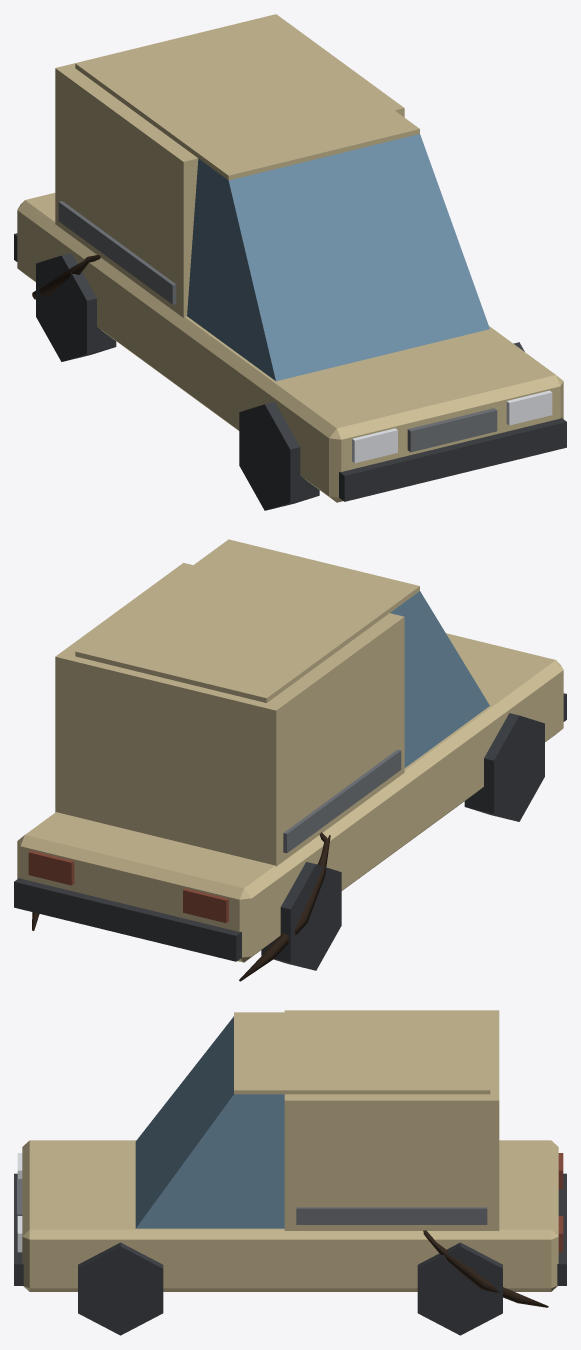
File: prop-car-utility-infested-1.glb
The picture shows the model from 3 angles, top to bottom: view 1: azimuth 30°, elevation 25°; view 2: azimuth 150°, elevation 25°; view 3: azimuth 270°, elevation 25°; orthographic projection. The views are drawn at different scales.
Visible parts, largest first — view 1: greenhouse, painted-body, painted-roof, solid-cargo-body, bumper-1, tyre-0.57--1, tyre--0.57--1, cargo-trim--1, grille, light-1-1, light-1--1, host_growth; view 2: solid-cargo-body, painted-body, painted-roof, greenhouse, bumper--1, tyre-0.57--1, tyre--0.57--1, cargo-trim--1, host_growth, light--1-1, light--1--1; view 3: painted-body, solid-cargo-body, greenhouse, painted-roof, tyre-0.57-1, tyre--0.57-1, cargo-trim-1, host_growth, bumper--1, bumper-1.
Part boxes in pixels (bbox=[...]): greenhouse: bbox=[187, 134, 489, 381]; painted-body: bbox=[17, 193, 563, 502]; painted-roof: bbox=[75, 17, 419, 180]; solid-cargo-body: bbox=[55, 14, 404, 317]; bumper-1: bbox=[339, 417, 566, 501]; tyre-0.57--1: bbox=[239, 402, 319, 510]; tyre--0.57--1: bbox=[36, 253, 116, 361]; cargo-trim--1: bbox=[58, 201, 176, 304]; grille: bbox=[407, 408, 497, 452]; light-1-1: bbox=[506, 390, 552, 425]; light-1--1: bbox=[352, 428, 397, 462]; host_growth: bbox=[32, 255, 100, 299]; solid-cargo-body: bbox=[55, 563, 404, 866]; painted-body: bbox=[17, 633, 563, 962]; painted-roof: bbox=[75, 539, 419, 702]; greenhouse: bbox=[390, 591, 489, 767]; bumper--1: bbox=[14, 877, 241, 961]; tyre-0.57--1: bbox=[464, 713, 544, 821]; tyre--0.57--1: bbox=[261, 862, 341, 970]; cargo-trim--1: bbox=[283, 749, 401, 853]; host_growth: bbox=[32, 832, 330, 981]; light--1-1: bbox=[28, 850, 74, 885]; light--1--1: bbox=[183, 888, 228, 922]; painted-body: bbox=[22, 1140, 558, 1291]; solid-cargo-body: bbox=[284, 1010, 499, 1230]; greenhouse: bbox=[135, 1016, 284, 1228]; painted-roof: bbox=[234, 1012, 490, 1094]; tyre-0.57-1: bbox=[78, 1242, 163, 1335]; tyre--0.57-1: bbox=[417, 1242, 502, 1335]; cargo-trim-1: bbox=[296, 1207, 487, 1224]; host_growth: bbox=[423, 1230, 548, 1307]; bumper--1: bbox=[557, 1173, 566, 1285]; bumper-1: bbox=[14, 1173, 23, 1285].
Bounding box in the file's own units: 0.855 × 0.86 × 1.85.
